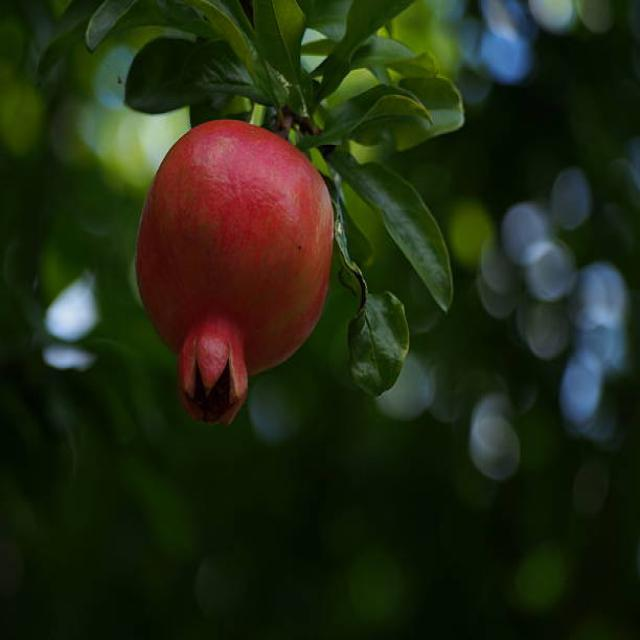Pomegranate: (131, 117, 337, 436)
